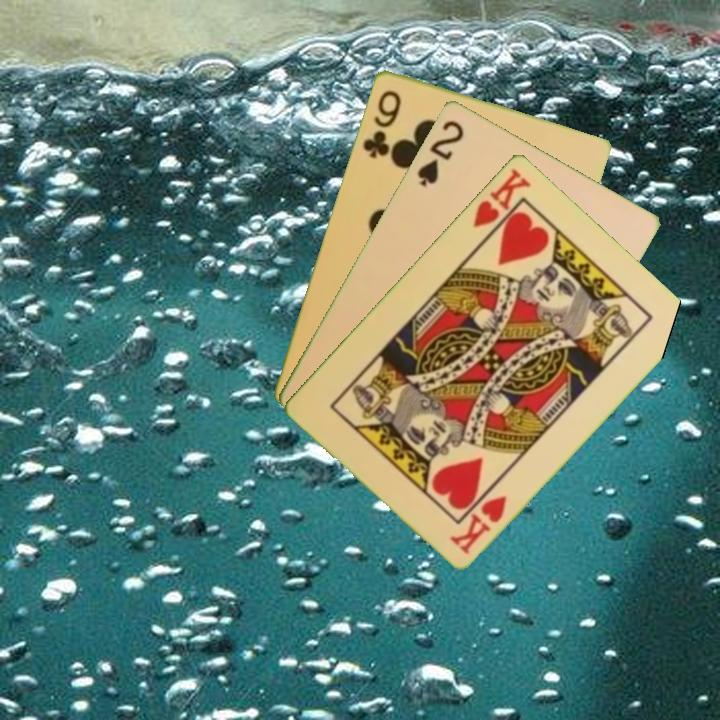2s: (413, 116, 467, 189)
9c: (359, 86, 404, 161)
Kh: (469, 164, 534, 243), (446, 490, 510, 557)
